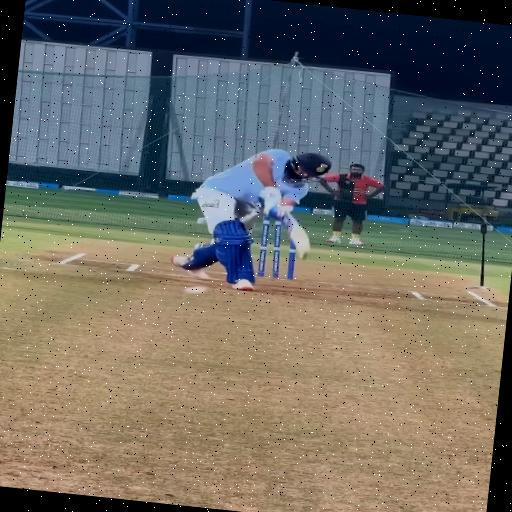Cricket bat: (284, 214, 310, 258)
